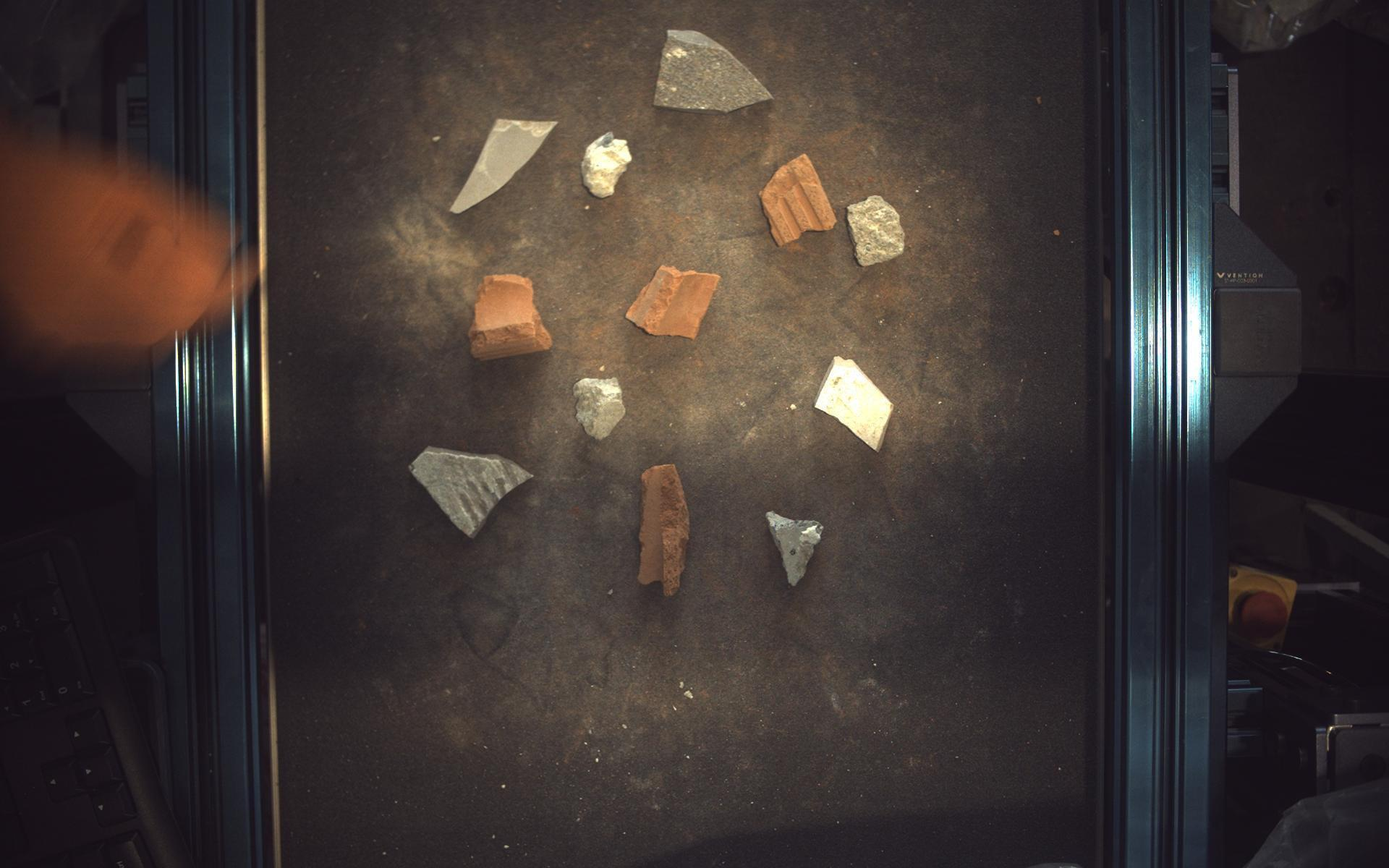brick: (761, 153, 838, 245), (469, 274, 552, 359), (627, 265, 721, 339), (639, 464, 690, 597)
concrete: (768, 512, 824, 587), (849, 195, 906, 266), (582, 131, 633, 197), (574, 377, 626, 441)
tile: (409, 447, 534, 538), (450, 118, 558, 213), (655, 28, 773, 111), (817, 356, 895, 451)
